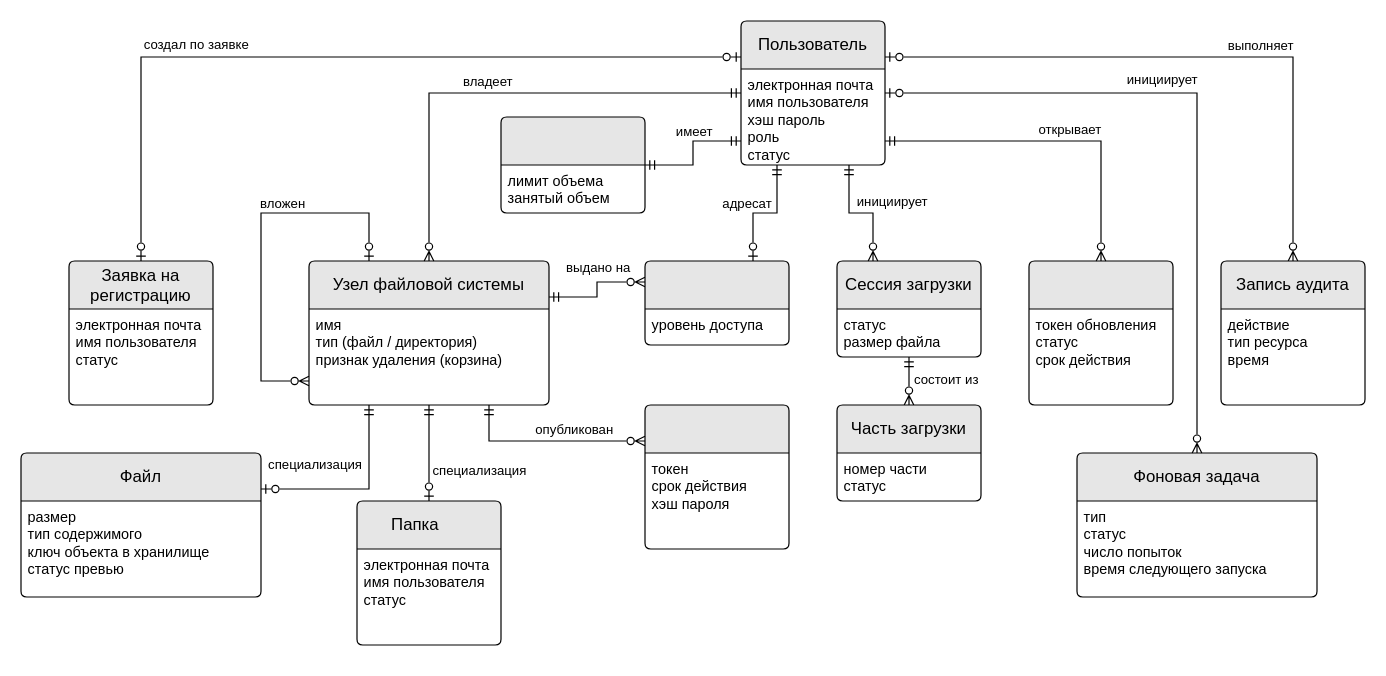
This 1386x676 diagram has some shape labels left out. The shapes that lost their labels are listed below. From the top down, each one's box as (x1, y1, x2, y2) in pixels, then its label:
(500, 116, 645, 213): Квота
(644, 260, 789, 345): Права доступа
(1028, 260, 1173, 405): Сессия пользователя
(644, 404, 789, 549): Публичная ссылка
